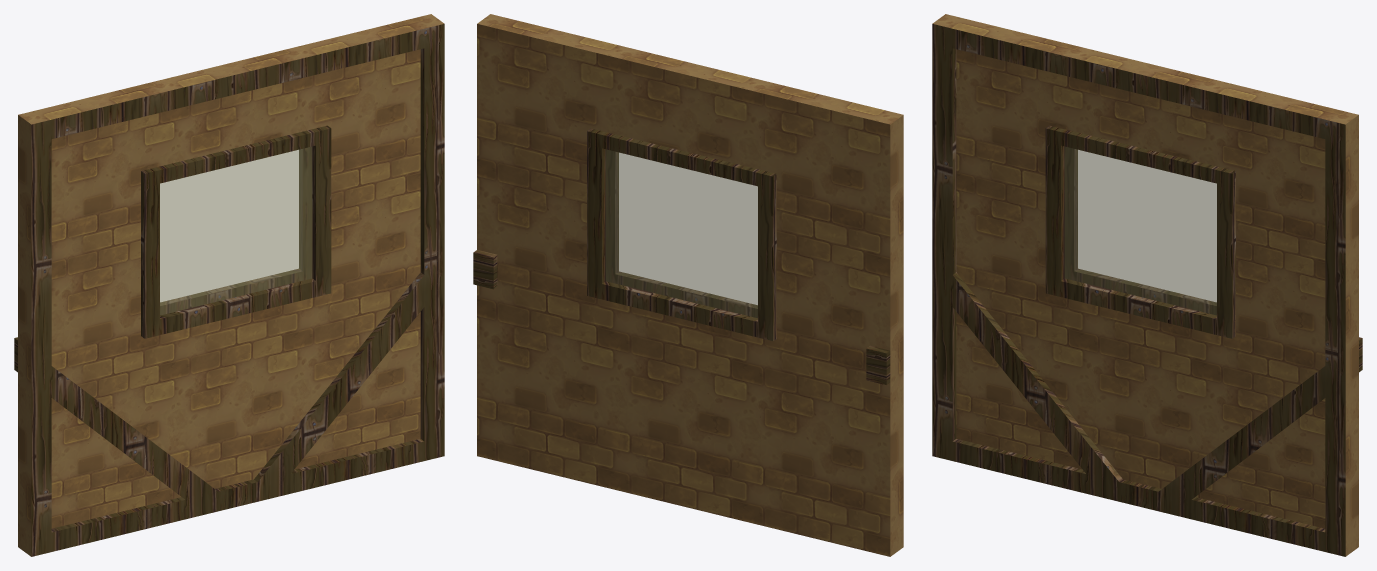
Rendered from window_wall.fbx.
3 views of the same model, side by side, from view 1: azimuth 30°, elevation 25°; view 2: azimuth 150°, elevation 25°; view 3: azimuth 330°, elevation 25° (orthographic).
Parts seen in each view (by area): view 1: window_wall; view 2: window_wall; view 3: window_wall.
Part boxes in pixels (x1,y1,x2,y2): window_wall: [14, 14, 444, 556]; window_wall: [473, 14, 903, 556]; window_wall: [932, 14, 1362, 556].
Size of the model in its own units: 250 by 250 by 18.
